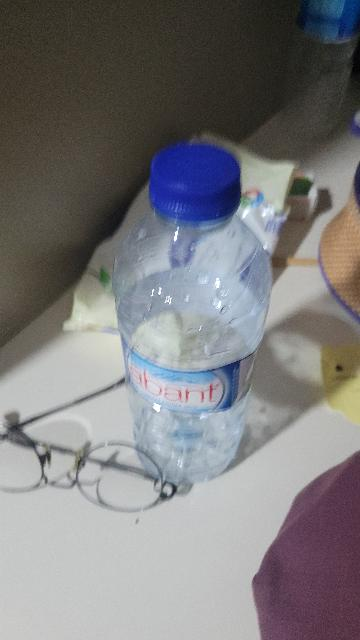Plastik: (108, 138, 279, 496), (293, 2, 360, 149)
